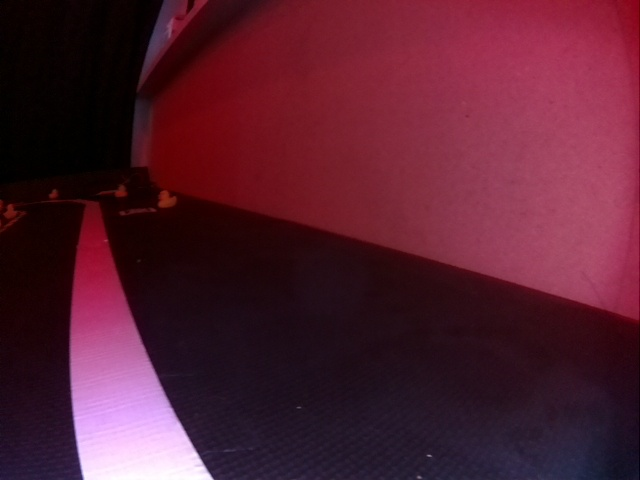Duckie: (157, 190, 176, 208), (8, 204, 17, 219), (115, 185, 126, 196), (49, 190, 58, 198)
